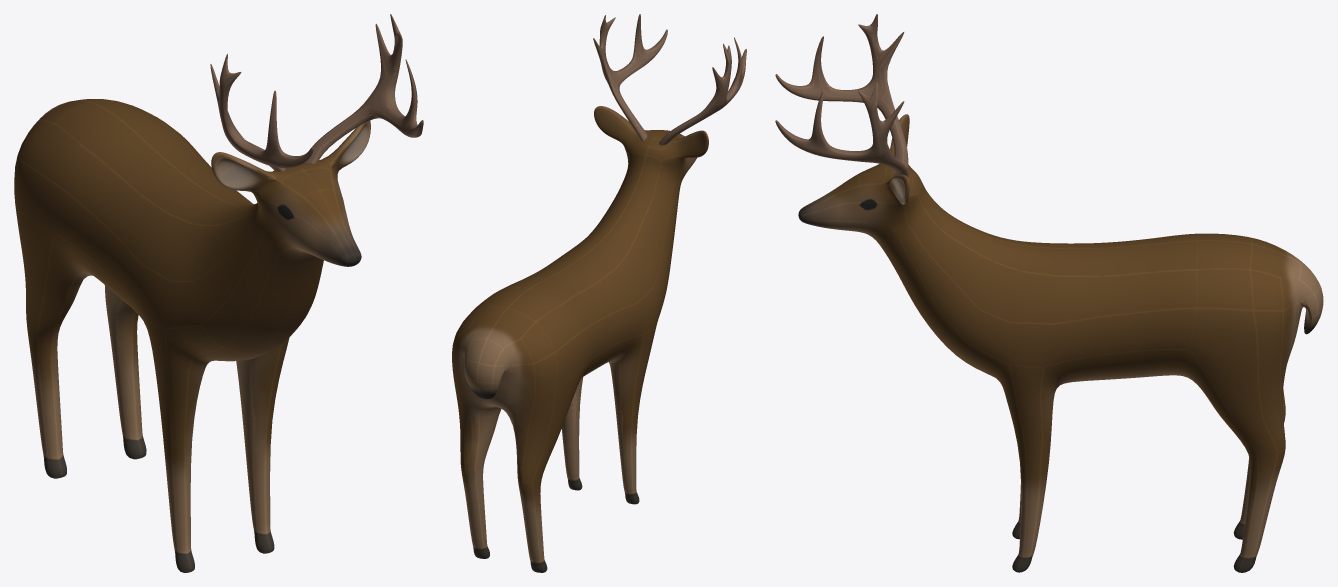
Rendered from MuleDeer.obj.
The picture shows the model from 3 angles, left to right: view 1: azimuth 30°, elevation 25°; view 2: azimuth 150°, elevation 25°; view 3: azimuth 270°, elevation 25°; orthographic projection. The views are drawn at different scales.
Parts seen in each view (by area): view 1: Default; view 2: Default; view 3: Default.
Part boxes in pixels (x1,y1,x2,y2): Default: (14,14,423,572); Default: (452,14,746,572); Default: (775,14,1323,572).
Bounding box in the file's own units: 0.3578 × 1.11 × 1.09.
Materials: 1 (1 with a texture image).
